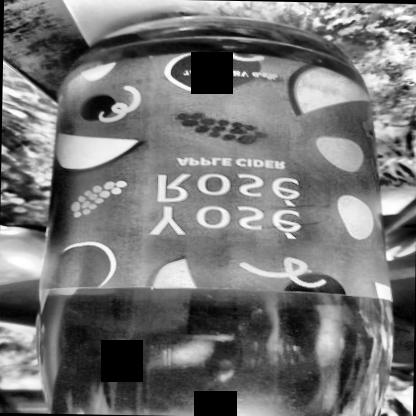yoserose: (46, 56, 382, 296)
